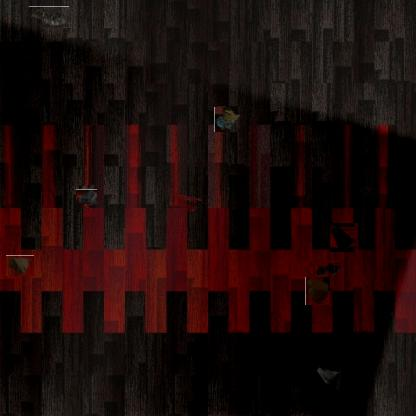dirty: (329, 223, 359, 252), (29, 6, 69, 27), (315, 364, 343, 392), (214, 106, 241, 132), (305, 277, 330, 305), (6, 255, 34, 276), (77, 187, 96, 206)
liquid: (174, 194, 202, 212), (314, 261, 340, 277)
